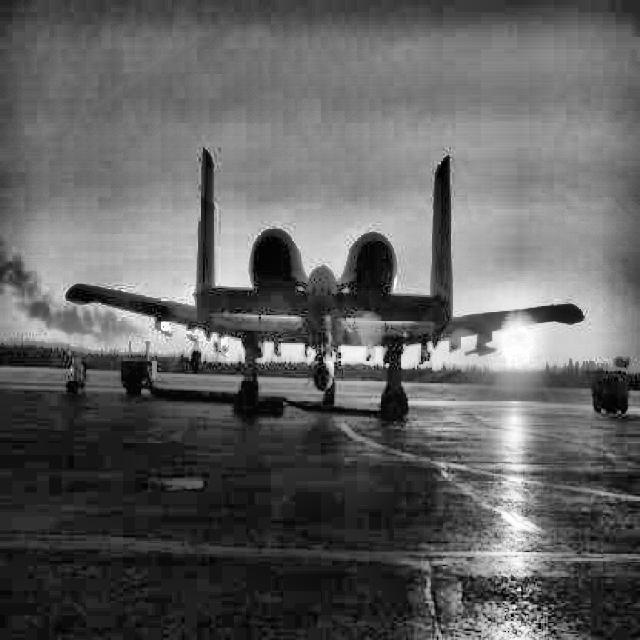A10: (65, 147, 584, 416)
